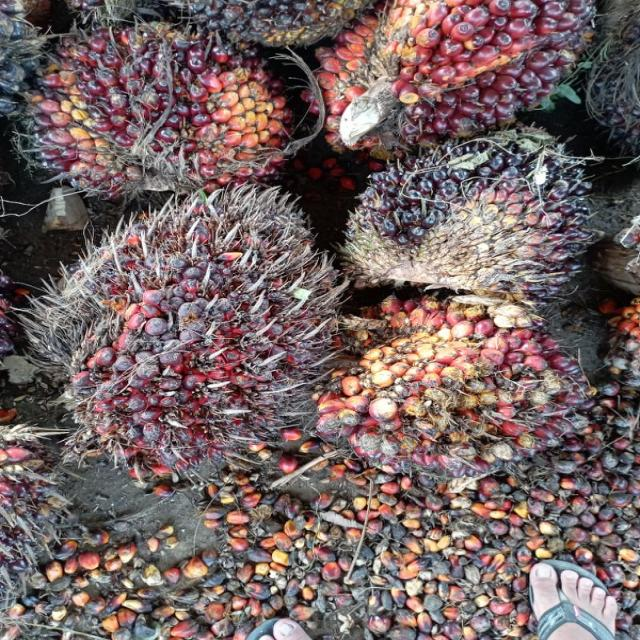fraksi 00: (349, 128, 594, 296)
fraksi 1: (20, 15, 285, 190)
fraksi 3: (325, 294, 591, 488), (304, 0, 605, 145)
fraksi 4: (29, 198, 343, 472)
